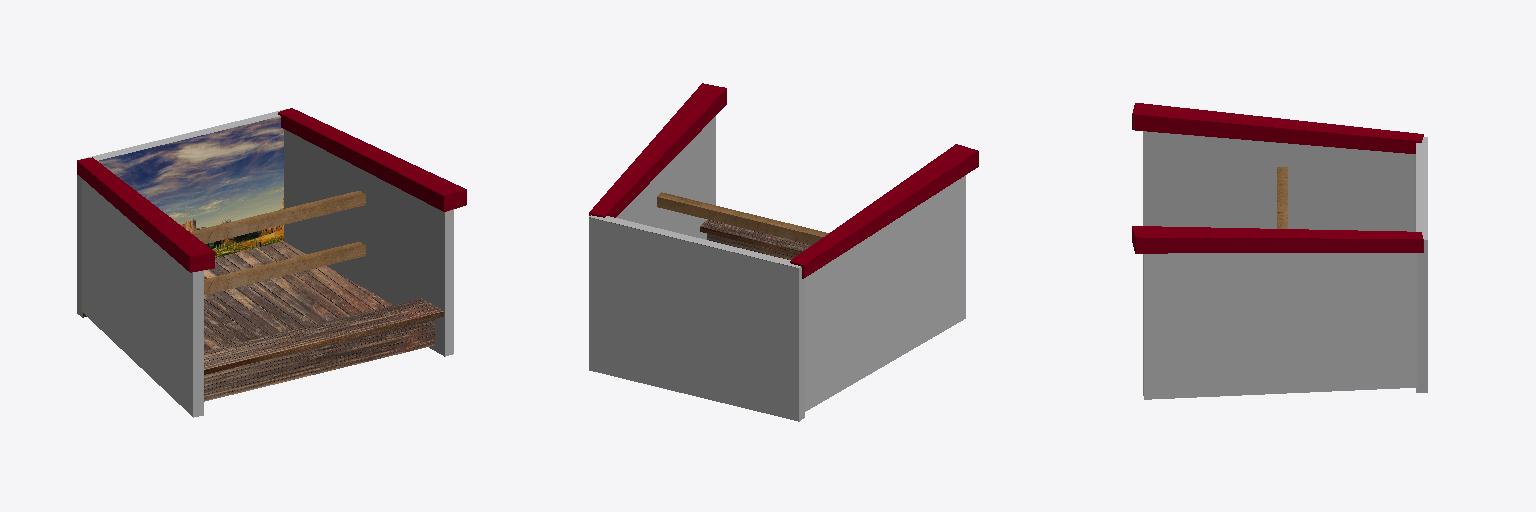
3 renders of one model, left to right at view 1: azimuth 30°, elevation 25°; view 2: azimuth 150°, elevation 25°; view 3: azimuth 270°, elevation 25°, orthographic.
Visible parts, largest first — view 1: pCube16, pCube29, pCube17, pCube21, pCube30, pCube8, pCube31, pCube19; view 2: pCube17, pCube29, pCube16, pCube31, pCube8, pCube30; view 3: pCube16, pCube29, pCube17, pCube31.
Boxes of the visible parts, x1,y1,x2,y2 form: pCube16: [278, 108, 466, 356]; pCube29: [77, 157, 214, 417]; pCube17: [77, 109, 285, 317]; pCube21: [204, 241, 391, 350]; pCube30: [204, 319, 434, 401]; pCube8: [204, 298, 443, 374]; pCube31: [190, 191, 365, 243]; pCube19: [204, 242, 365, 294]; pCube17: [589, 215, 804, 421]; pCube29: [790, 144, 978, 411]; pCube16: [589, 83, 726, 239]; pCube31: [657, 192, 828, 244]; pCube8: [700, 220, 811, 254]; pCube30: [707, 234, 797, 259]; pCube16: [1132, 226, 1423, 399]; pCube29: [1132, 103, 1423, 231]; pCube17: [1416, 137, 1427, 392]; pCube31: [1277, 167, 1287, 228].
Bounding box in the file's own units: 58.51 × 34.78 × 54.15.
Materials: 5 (5 with a texture image).